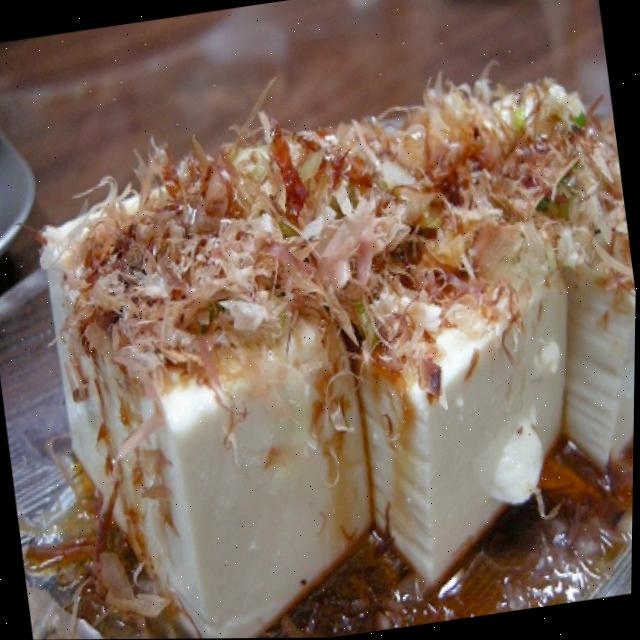豆腐料理: (0, 103, 639, 640)
